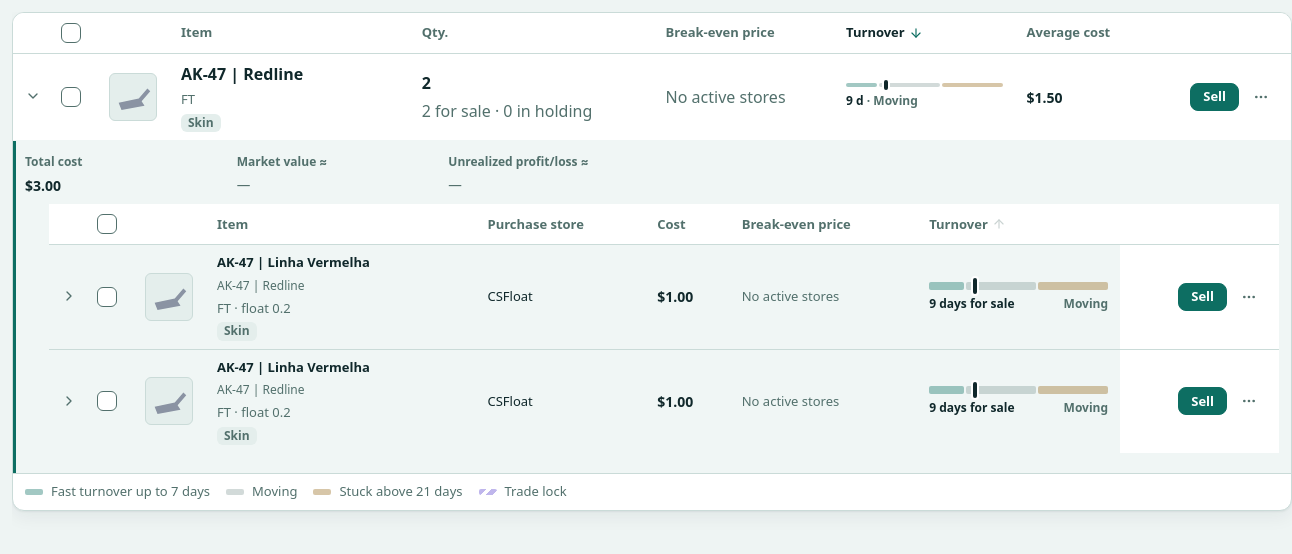
it: seleção única na visão agrupada › a caixa do grupo marca todas as unidades da tela; marcar uma só deixa o grupo parcial
Later steps or results of the test are not shown.
Step 1. Click the checkbox named "Select AK-47 | Linha Vermelha (#1)" → point(107, 297), box x1=97 y1=287 x2=117 y2=307
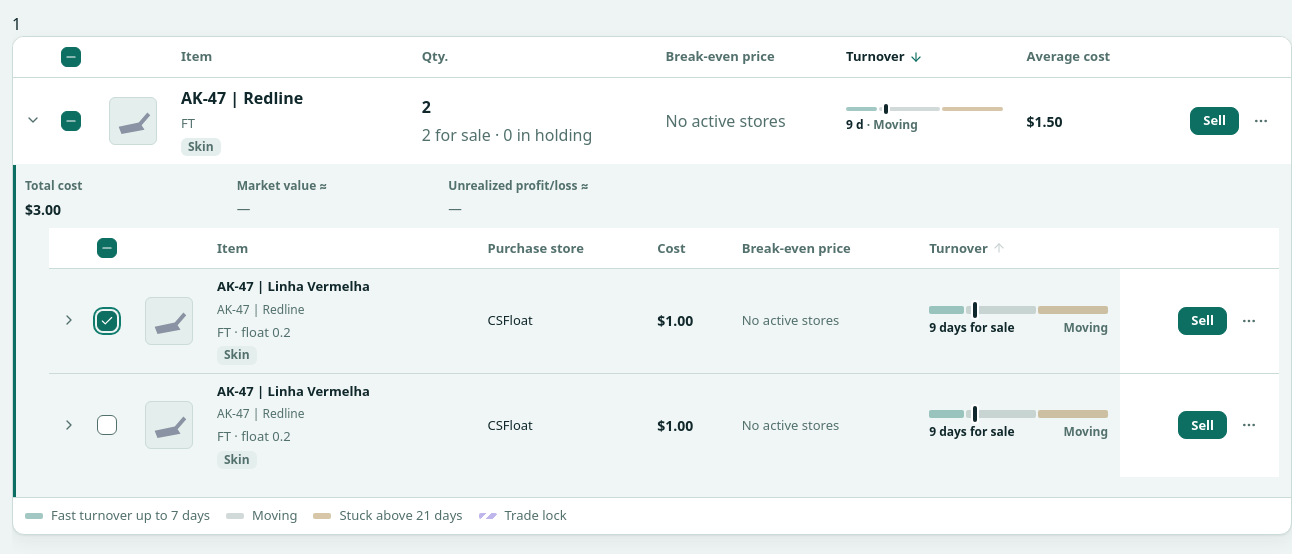
Now the text with test id "ids" reads "1", box x1=12 y1=13 x2=21 y2=35
Step 2. Click the checkbox named "Select the units of AK-47 | Redline shown" → point(71, 121), box x1=61 y1=111 x2=81 y2=131
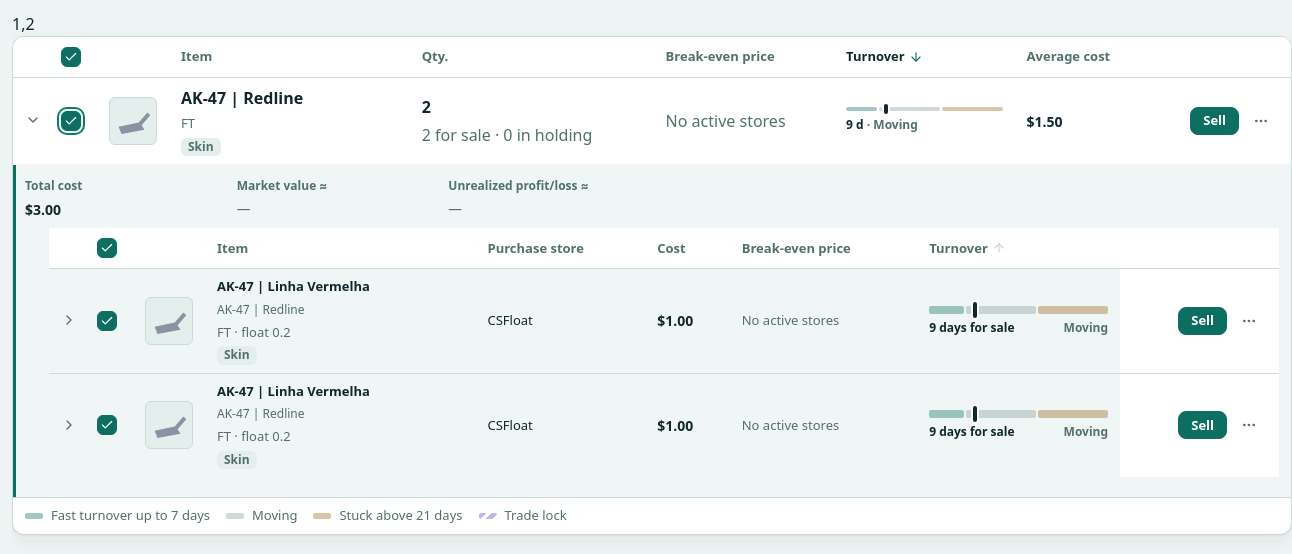
Now the checkbox named "Select the units of AK-47 | Redline shown" is checked, box x1=61 y1=111 x2=81 y2=131
Now the text with test id "ids" reads "1,2", box x1=12 y1=13 x2=35 y2=35
